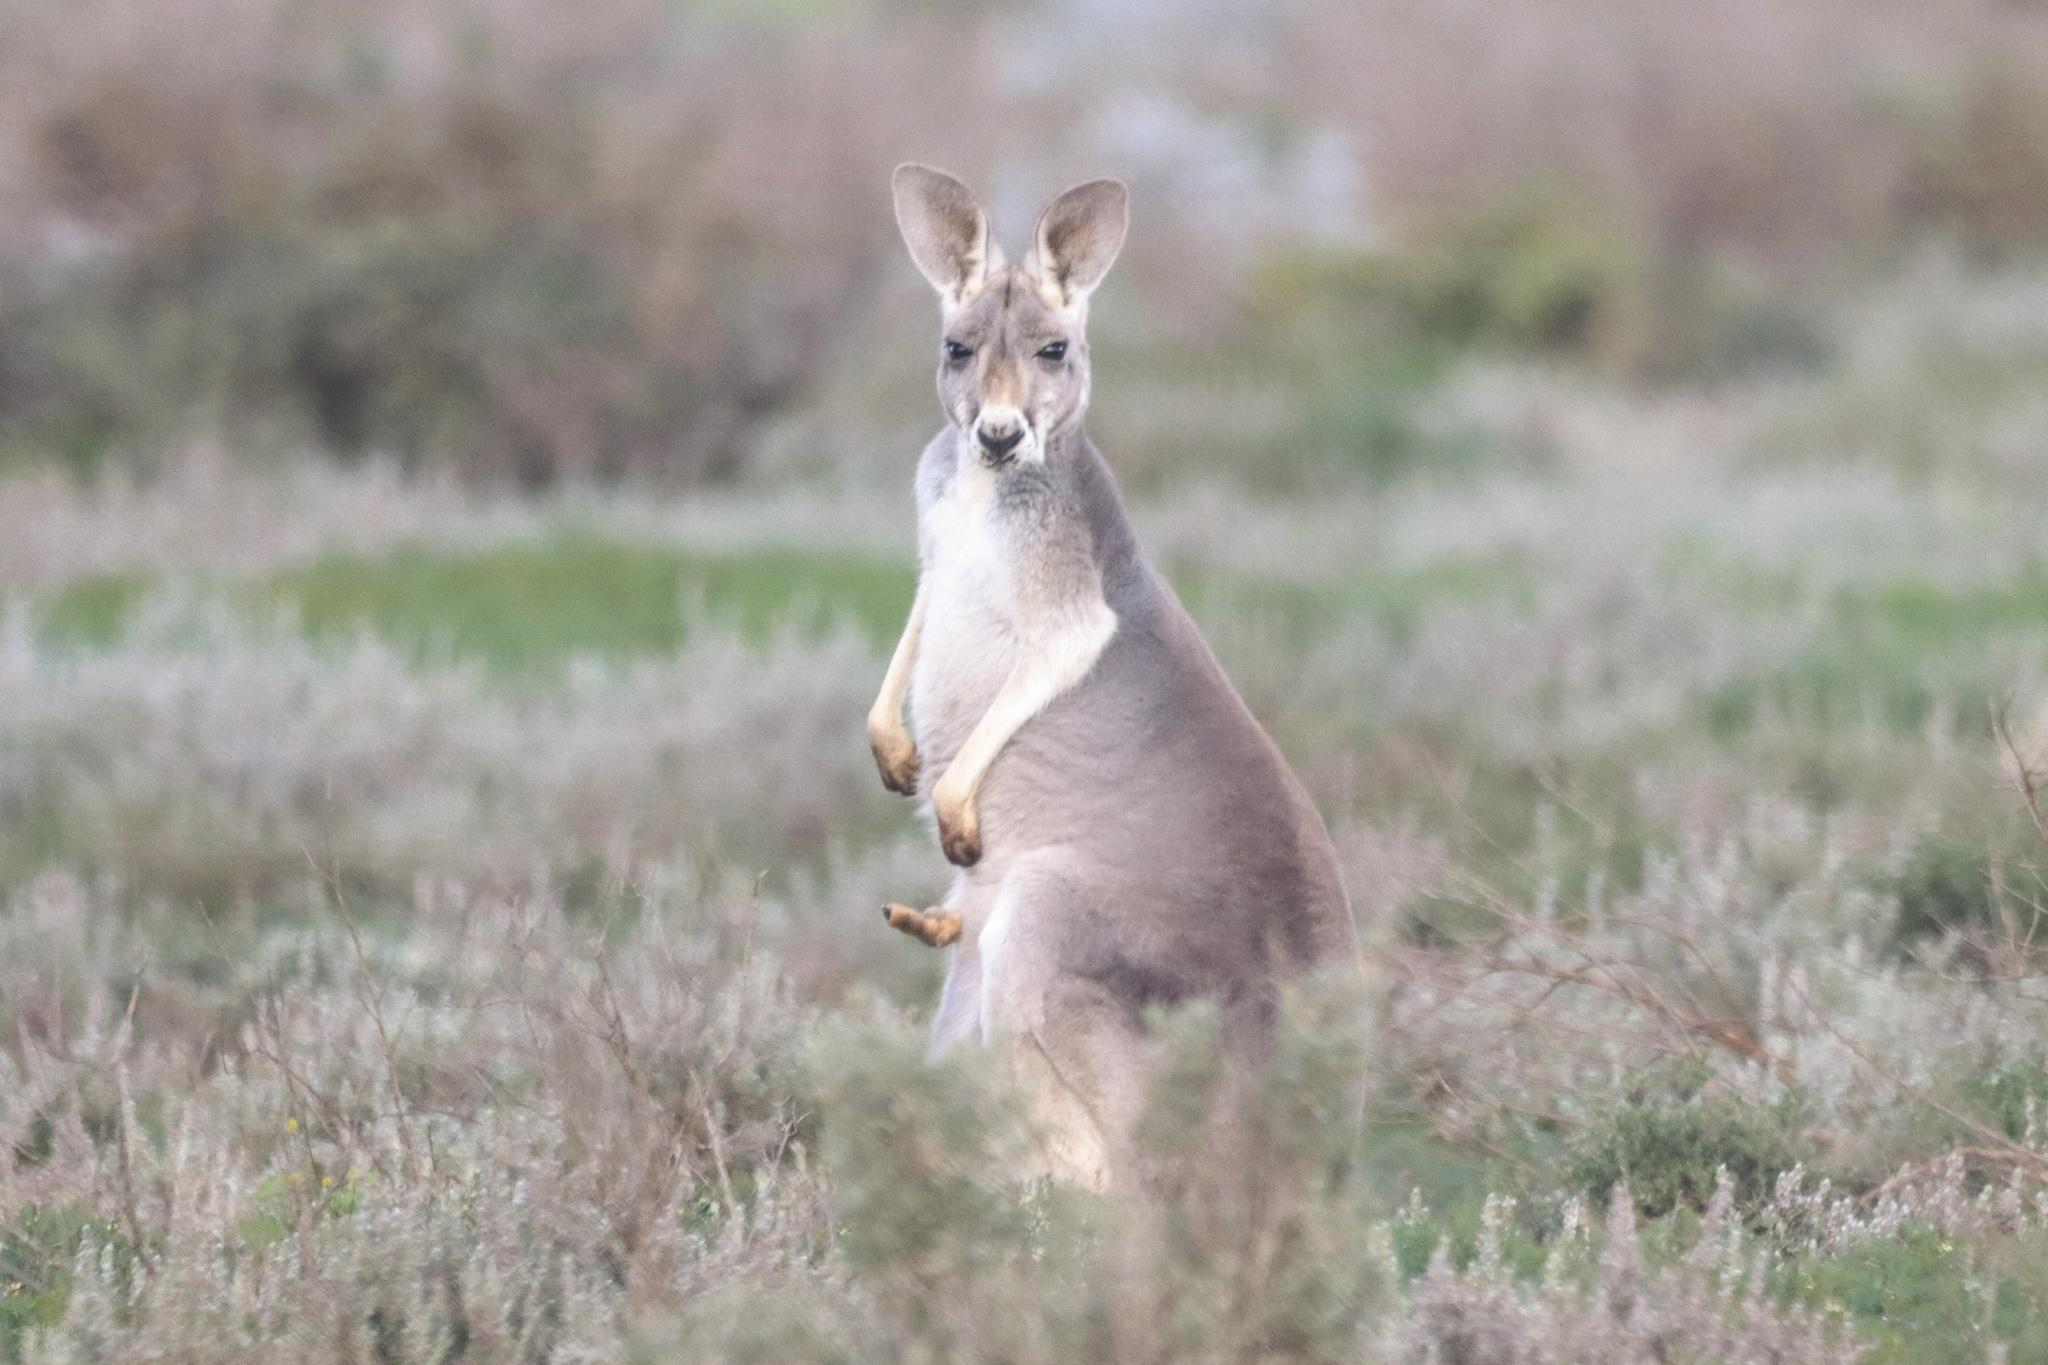Red kangaroo: (868, 165, 1375, 1108)
